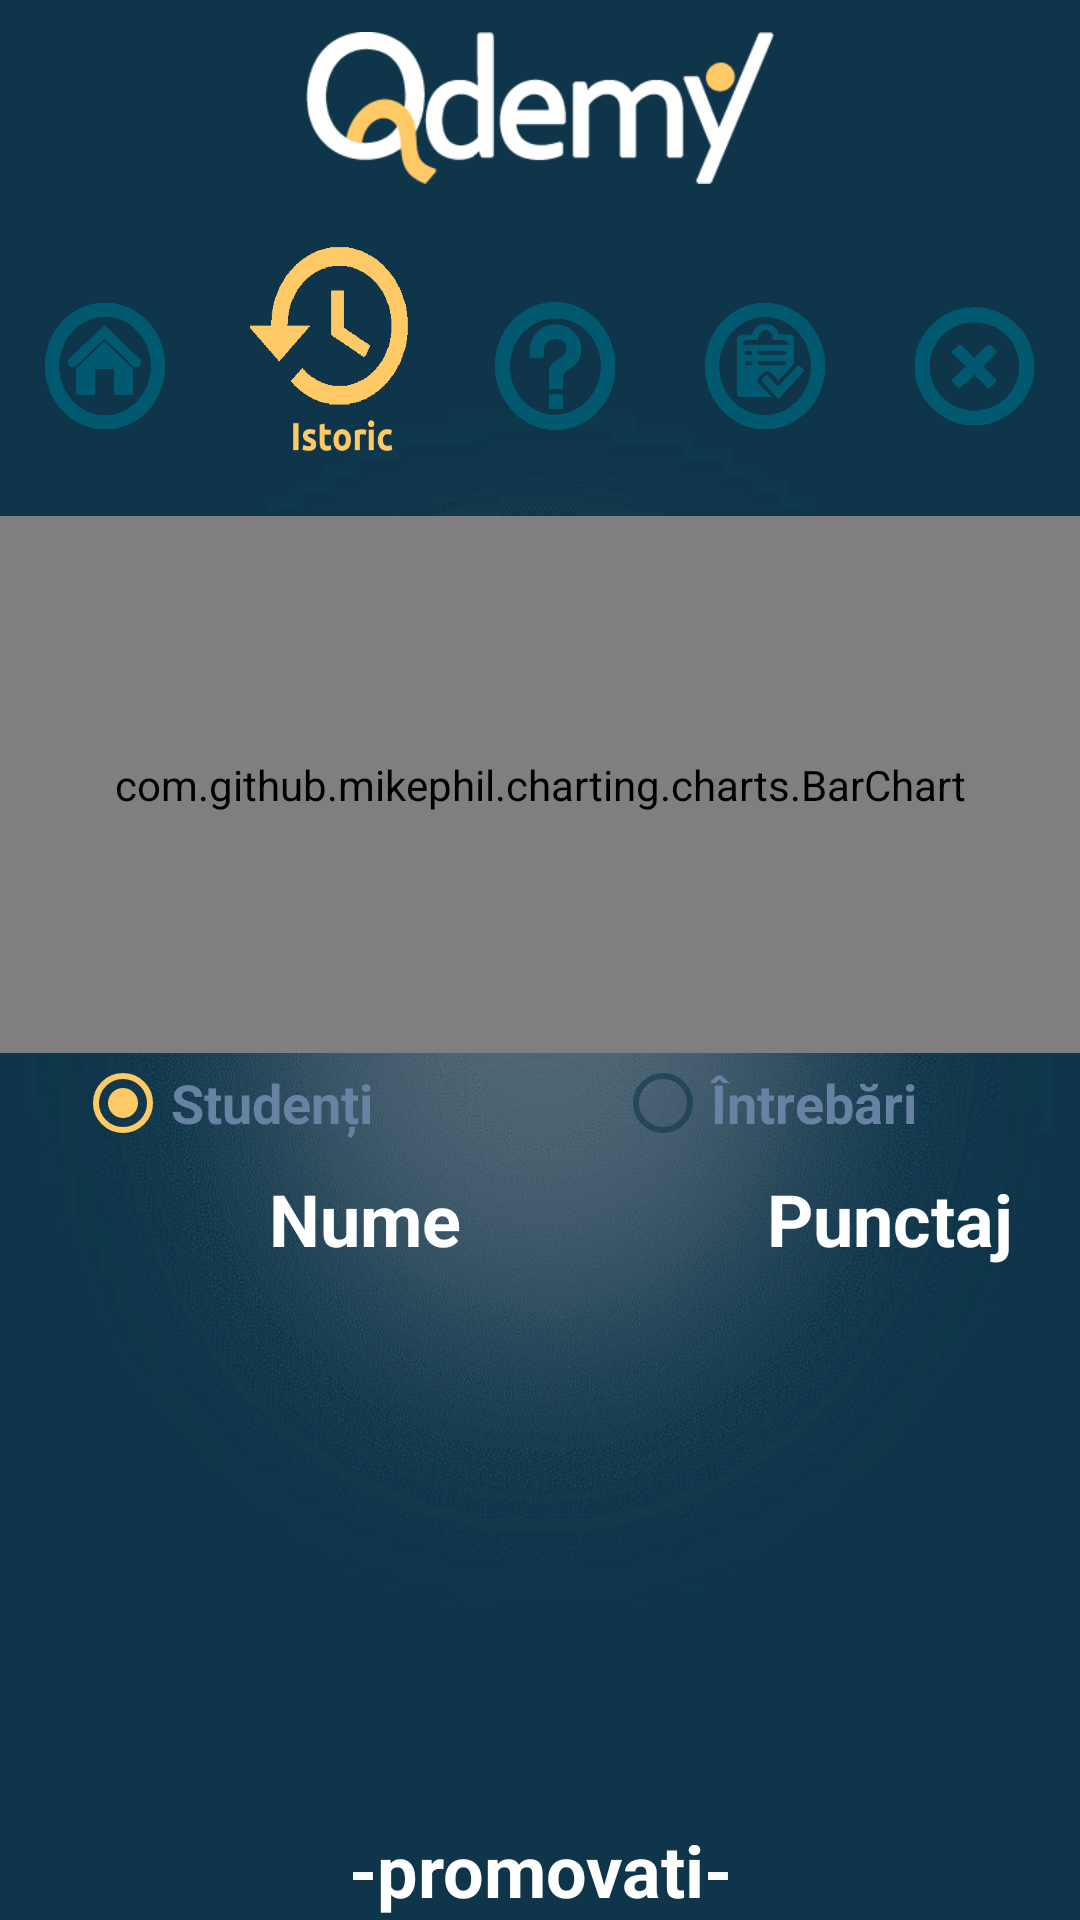

Icons on this 1080w x 1920h Android screen, each with the point to tap as point (x, y):
acasax: point (105, 366)
deconectare: point (974, 366)
intrebarix: point (555, 366)
testex: point (765, 366)
